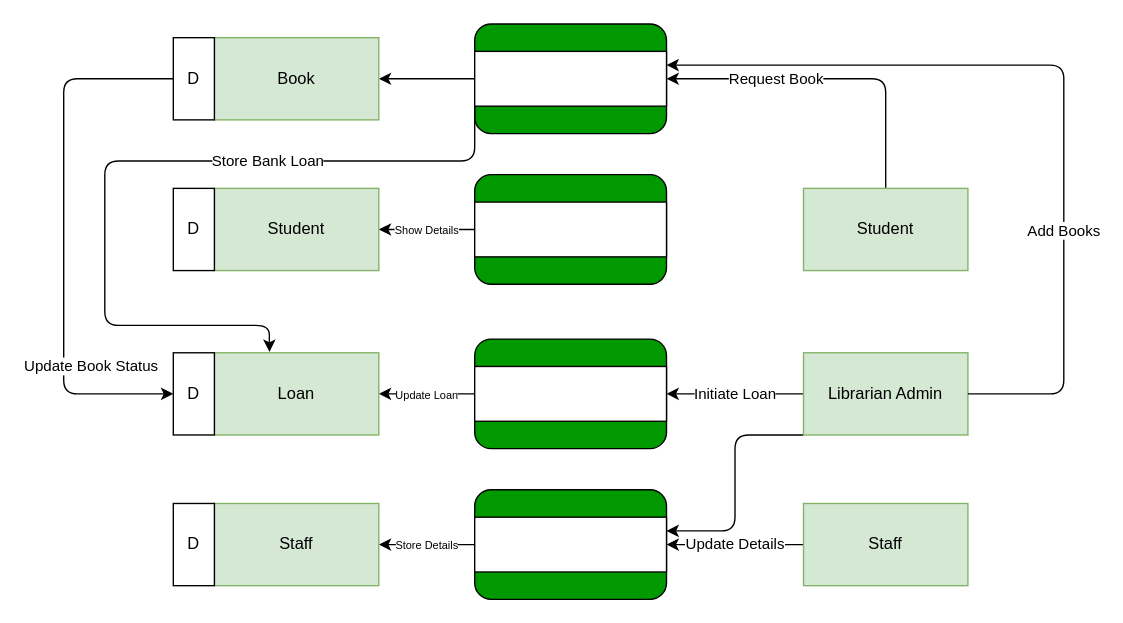
The diagram is 1123 pixels wide and 623 high, and some of its shapes have lost their labels. The box of each missing label's shape, as (x1, y1, x2, y2) in pixels:
Book Management: (473, 50, 667, 106)
Loan Management: (473, 365, 667, 421)
Staff Management: (473, 516, 667, 572)
Student Management: (473, 201, 667, 257)
